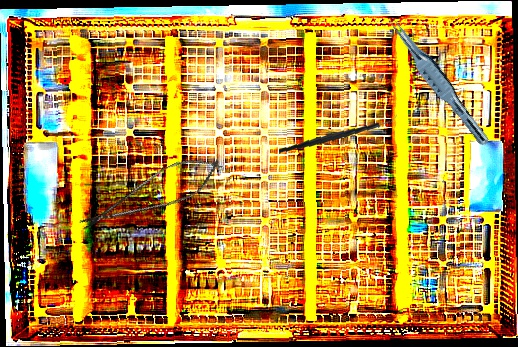Chopper: (278, 102, 398, 164)
Micro Scissor: (72, 144, 231, 245)
Tissue Forceps: (379, 12, 498, 149)
